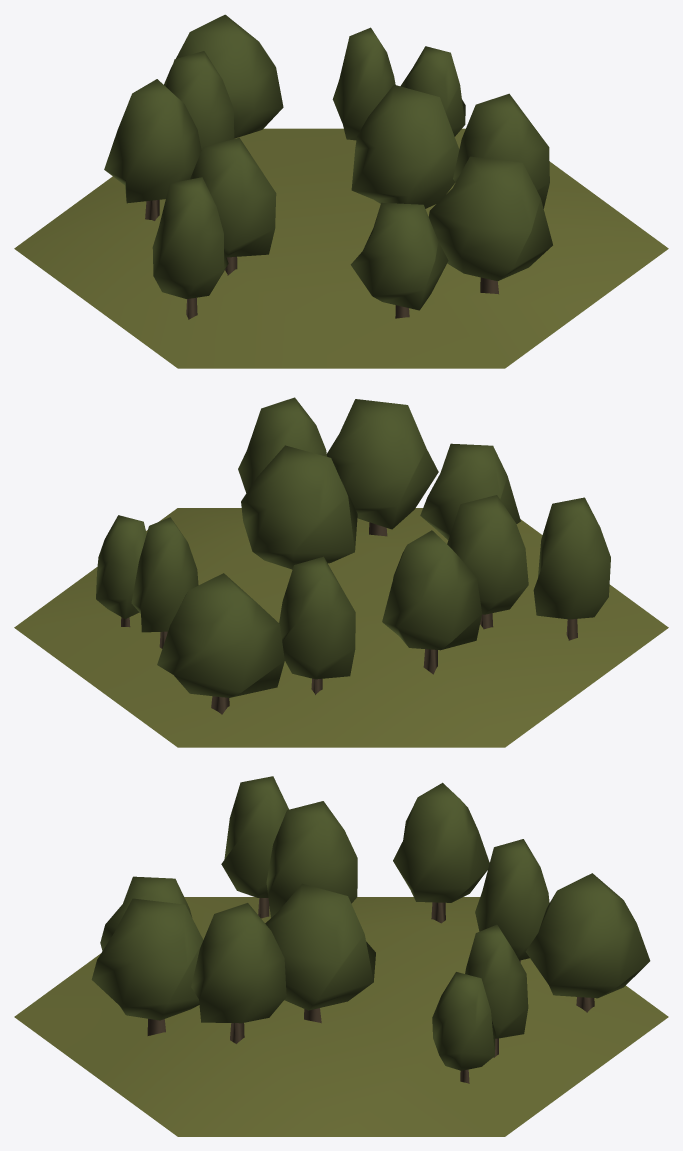
The model's file is deciduousForest.glb.
3 views of the same model, one above another, from view 1: azimuth 30°, elevation 25°; view 2: azimuth 150°, elevation 25°; view 3: azimuth 270°, elevation 25° (orthographic).
Visible parts, largest first — view 1: Deciduous Trees, Deciduous Forest Terrain; view 2: Deciduous Trees, Deciduous Forest Terrain; view 3: Deciduous Trees, Deciduous Forest Terrain.
Part boxes in pixels (box(x1,y1,x2,y2)): Deciduous Trees: box(104, 14, 552, 319); Deciduous Forest Terrain: box(14, 128, 668, 368); Deciduous Trees: box(96, 397, 610, 714); Deciduous Forest Terrain: box(14, 508, 668, 747); Deciduous Trees: box(91, 776, 650, 1083); Deciduous Forest Terrain: box(14, 897, 668, 1136).
Bounding box in the file's own units: 1.73 × 0.5299 × 2.
